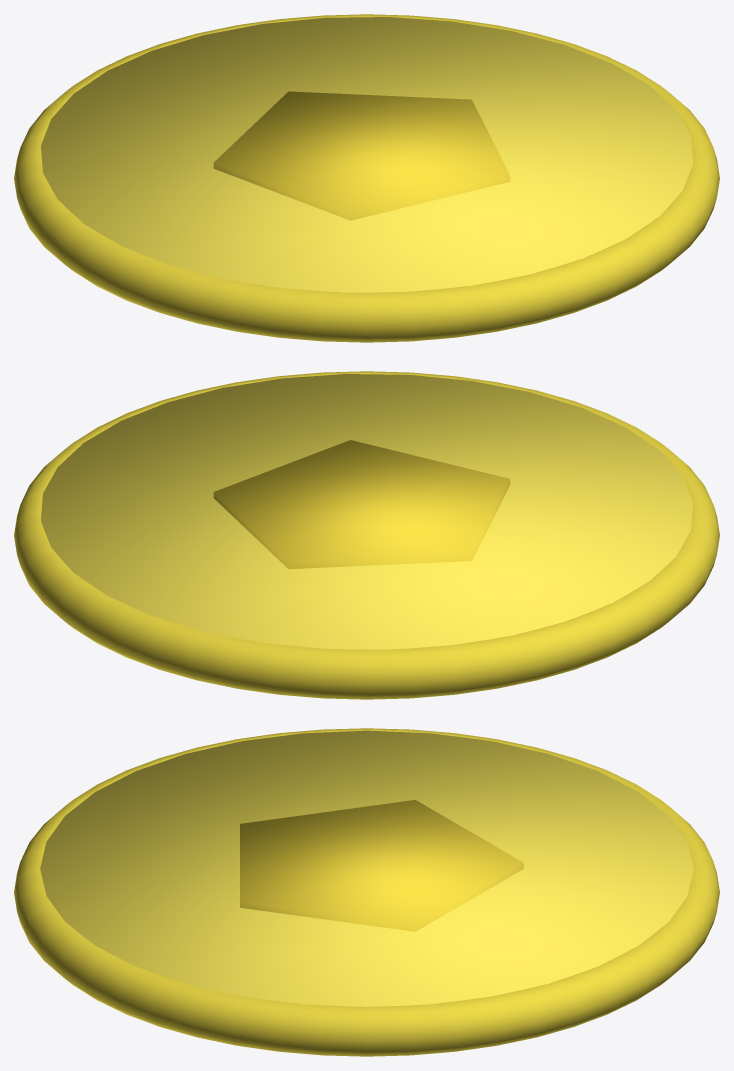
File: mesh_gold_coin.fbx
The picture shows the model from 3 angles, top to bottom: view 1: azimuth 30°, elevation 25°; view 2: azimuth 150°, elevation 25°; view 3: azimuth 270°, elevation 25°; orthographic projection.
Visible parts, largest first — view 1: mesh_gold_coin; view 2: mesh_gold_coin; view 3: mesh_gold_coin.
Part boxes in pixels (x1=…): mesh_gold_coin: x1=14, y1=14, x2=719, y2=342; mesh_gold_coin: x1=14, y1=371, x2=719, y2=699; mesh_gold_coin: x1=14, y1=728, x2=719, y2=1056.
Size of the model in its own units: 0.54 by 0.05 by 0.54.
